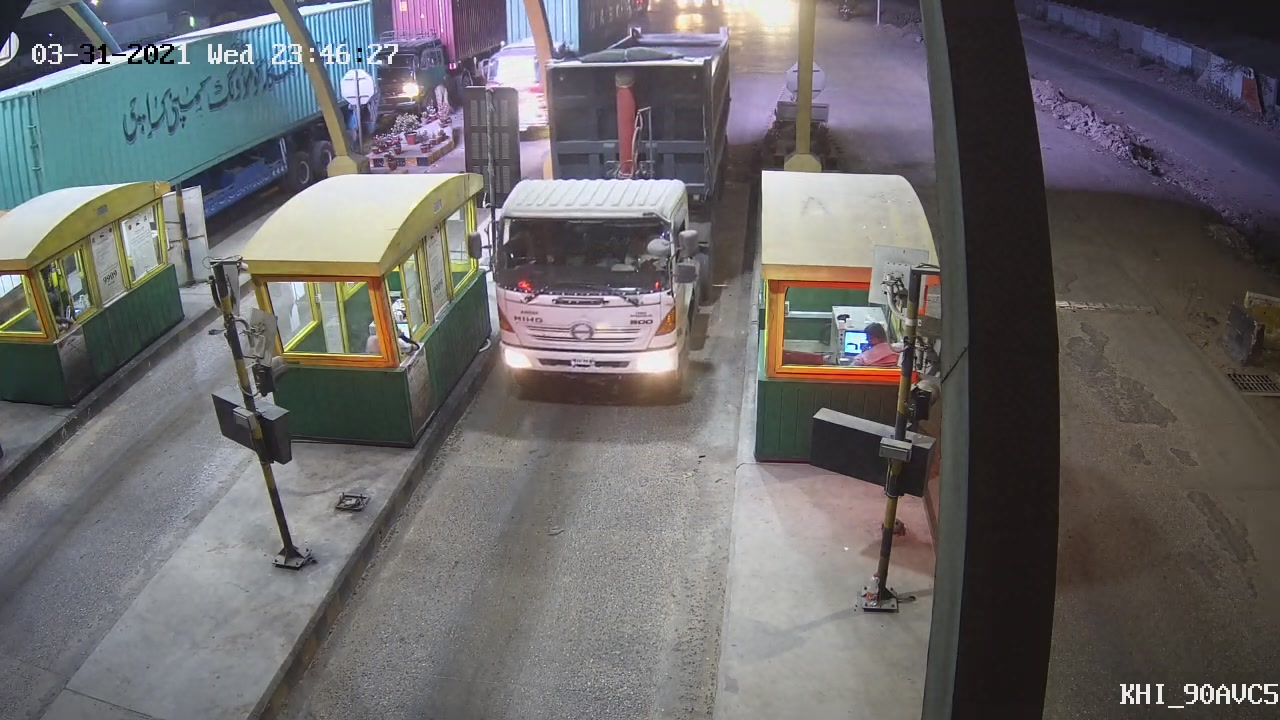F5: (489, 56, 722, 416)
